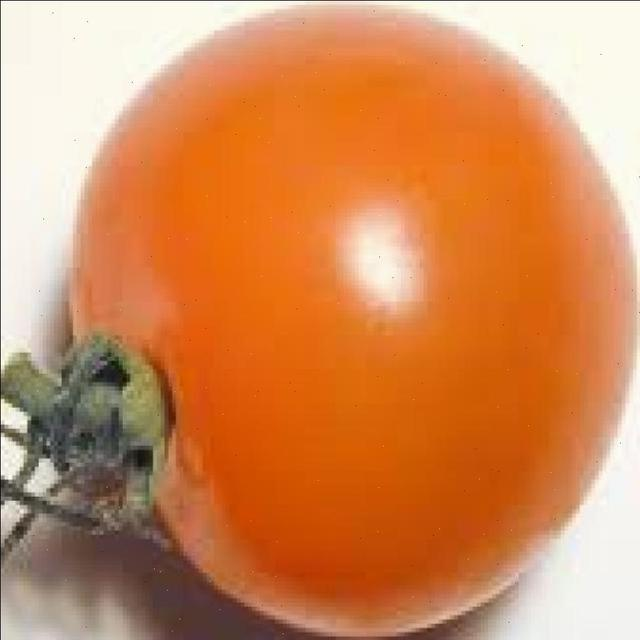Healthy Fruit: (1, 3, 417, 427)
